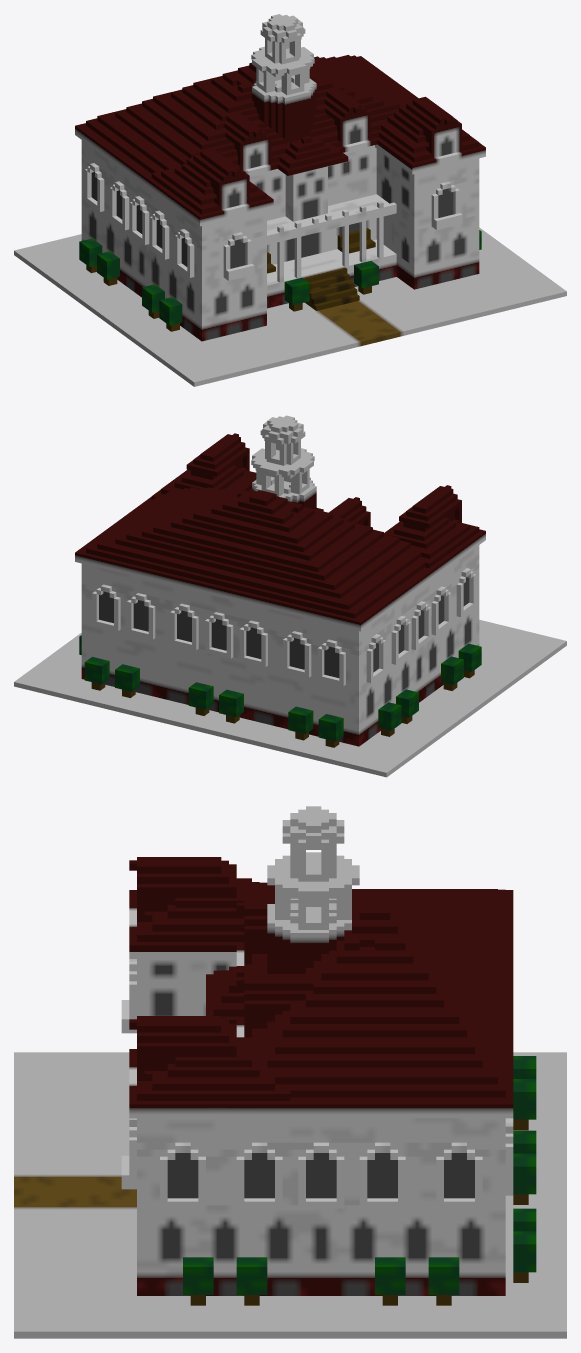
File: HorrorHotel.fbx
3 renders of one model, top to bottom at view 1: azimuth 30°, elevation 25°; view 2: azimuth 150°, elevation 25°; view 3: azimuth 270°, elevation 25°, orthographic. The views are drawn at different scales.
Visible parts, largest first — view 1: Matrix; view 2: Matrix; view 3: Matrix.
Part boxes in pixels (x1=…): Matrix: x1=14, y1=14, x2=566, y2=386; Matrix: x1=14, y1=415, x2=566, y2=777; Matrix: x1=14, y1=806, x2=566, y2=1338.
Size of the model in its own units: 86 by 55 by 72.
